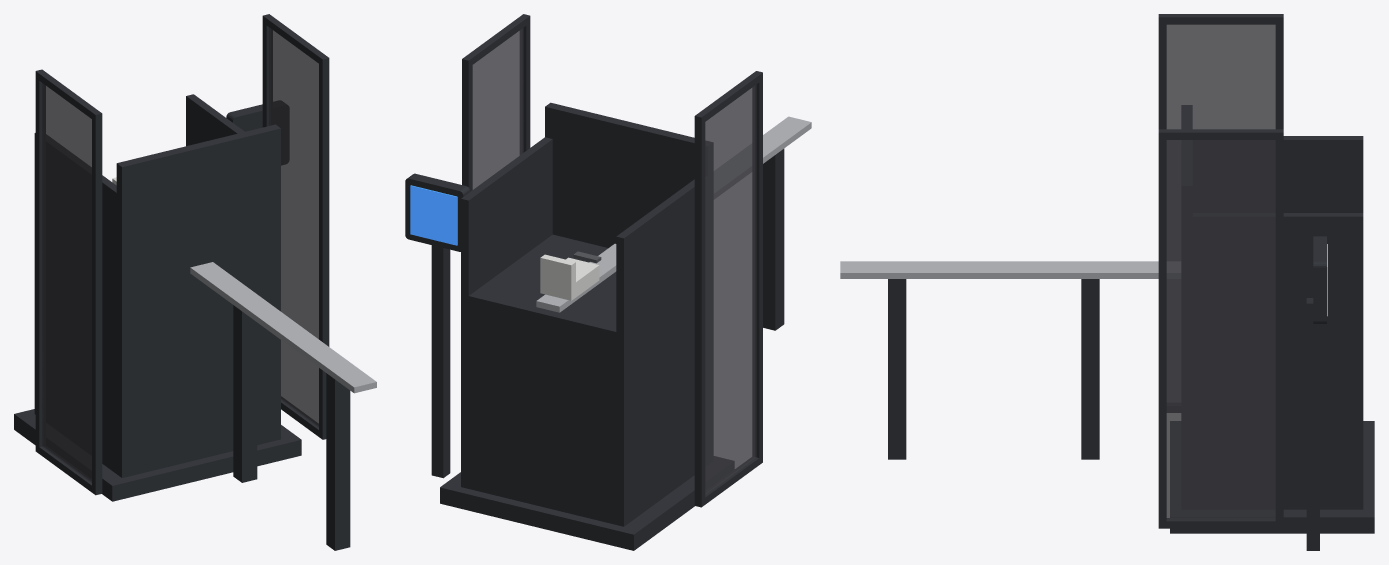
Rendered from tool_lu_station.glb.
3 views of the same model, side by side, from view 1: azimuth 30°, elevation 25°; view 2: azimuth 150°, elevation 25°; view 3: azimuth 270°, elevation 25° (orthographic). The views are drawn at different scales.
Parts seen in each view (by area): view 1: tls_base__anthracite, tls_base__mesh, tls_base__steel; view 2: tls_base__anthracite, tls_base__mesh, tls_base__steel, tls_base__screen_on, tool_drawer__evo_white; view 3: tls_base__anthracite, tls_base__mesh, tls_base__steel.
Part boxes in pixels (x1,y1,x2,y2): tls_base__anthracite: [14, 14, 350, 550]; tls_base__mesh: [42, 27, 318, 482]; tls_base__steel: [190, 262, 376, 393]; tls_base__anthracite: [405, 14, 784, 550]; tls_base__mesh: [472, 28, 756, 494]; tls_base__steel: [536, 116, 811, 312]; tls_base__screen_on: [410, 185, 457, 245]; tool_drawer__evo_white: [540, 254, 599, 300]; tls_base__anthracite: [888, 14, 1374, 550]; tls_base__mesh: [1166, 24, 1275, 519]; tls_base__steel: [840, 261, 1180, 278].
Bounding box in the file's own units: 1.42 × 2 × 2.35.
